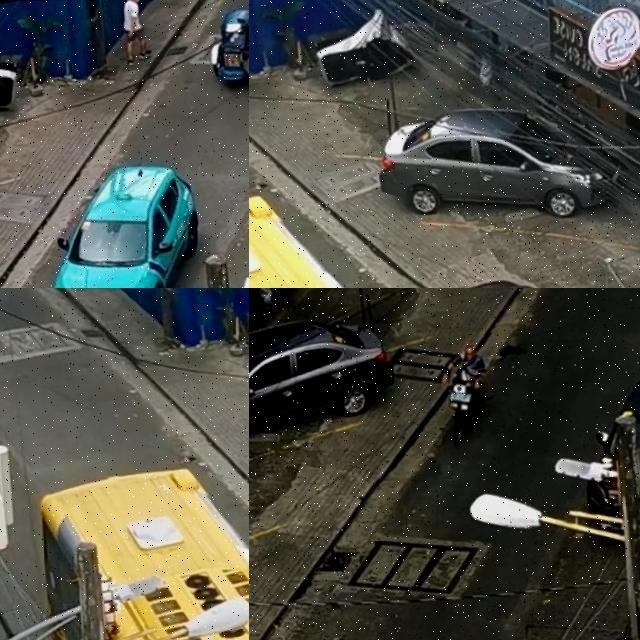Others: (249, 183, 640, 288), (84, 481, 249, 640)
